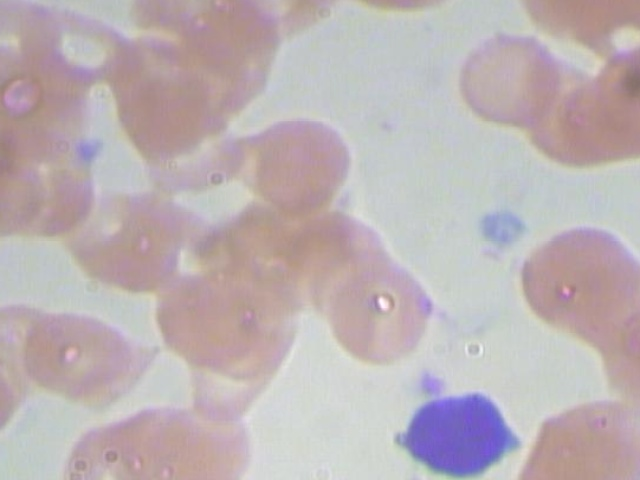Platelets: (465, 199, 536, 251), (64, 133, 107, 170), (409, 365, 451, 401)
RBC: (236, 101, 365, 219), (308, 251, 437, 369), (138, 259, 267, 377), (447, 21, 575, 139), (510, 217, 638, 335), (16, 294, 145, 411), (513, 58, 640, 176), (64, 174, 192, 291), (98, 39, 226, 156), (16, 0, 147, 99), (164, 0, 295, 99), (137, 388, 265, 480), (139, 390, 268, 480), (0, 133, 96, 250), (41, 408, 171, 480), (534, 394, 640, 480), (573, 35, 640, 153), (0, 294, 64, 406)
WBC: (385, 388, 533, 479)
